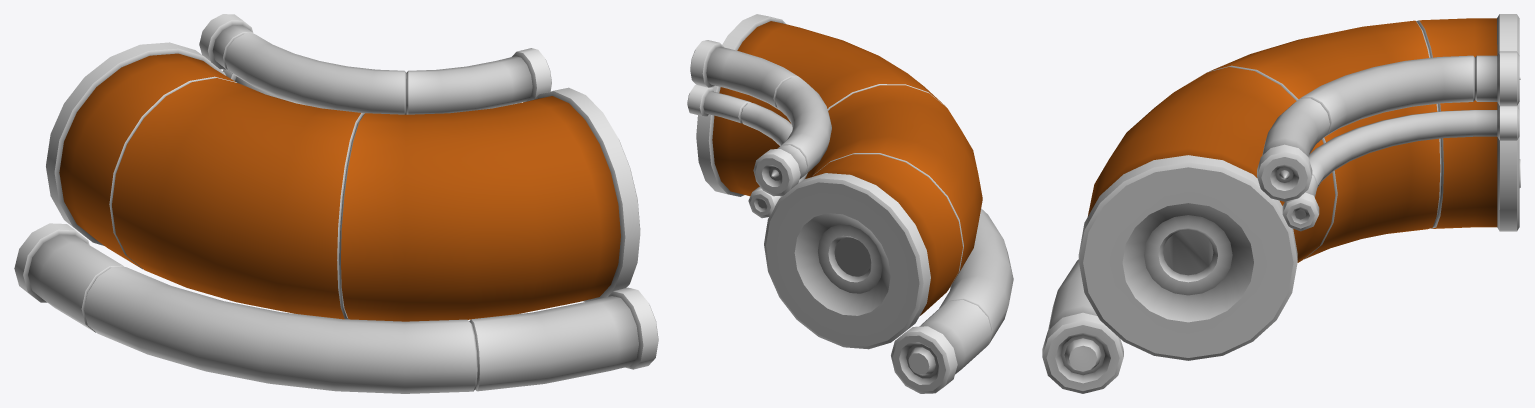
The model's file is deco_pipe_curve_R.FBX.
3 views of the same model, side by side, from view 1: azimuth 30°, elevation 25°; view 2: azimuth 150°, elevation 25°; view 3: azimuth 270°, elevation 25° (orthographic). The views are drawn at different scales.
Parts seen in each view (by area): view 1: deco_pipe_curve_R; view 2: deco_pipe_curve_R; view 3: deco_pipe_curve_R.
Boxes of the visible parts, x1=… form: deco_pipe_curve_R: x1=14, y1=14, x2=658, y2=393; deco_pipe_curve_R: x1=687, y1=14, x2=1013, y2=393; deco_pipe_curve_R: x1=1042, y1=14, x2=1520, y2=393.
Size of the model in its own units: 1.44 by 0.8064 by 1.44.
